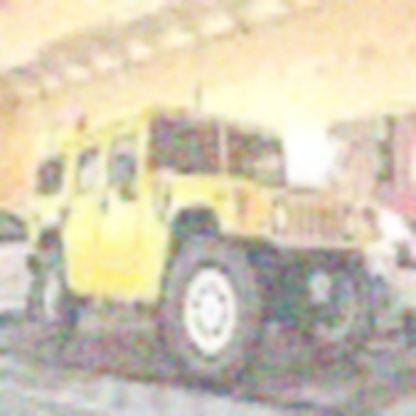Vehicle: (23, 94, 412, 396)
